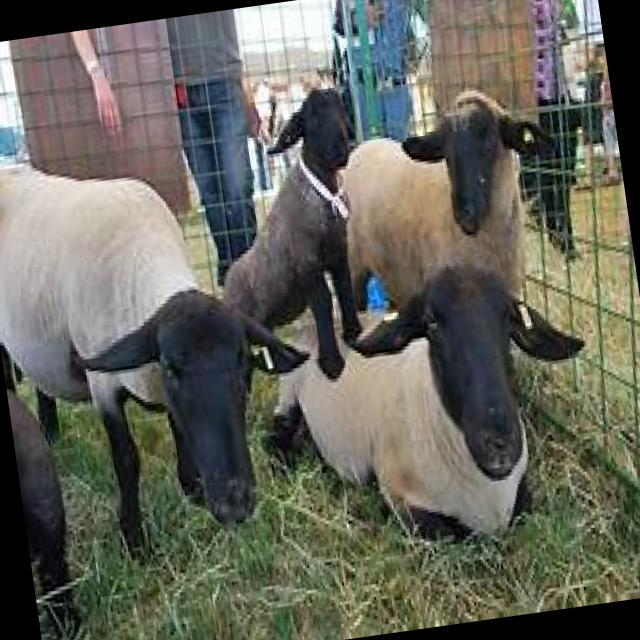sheep: (0, 124, 337, 577), (245, 246, 612, 572), (324, 74, 575, 328)
